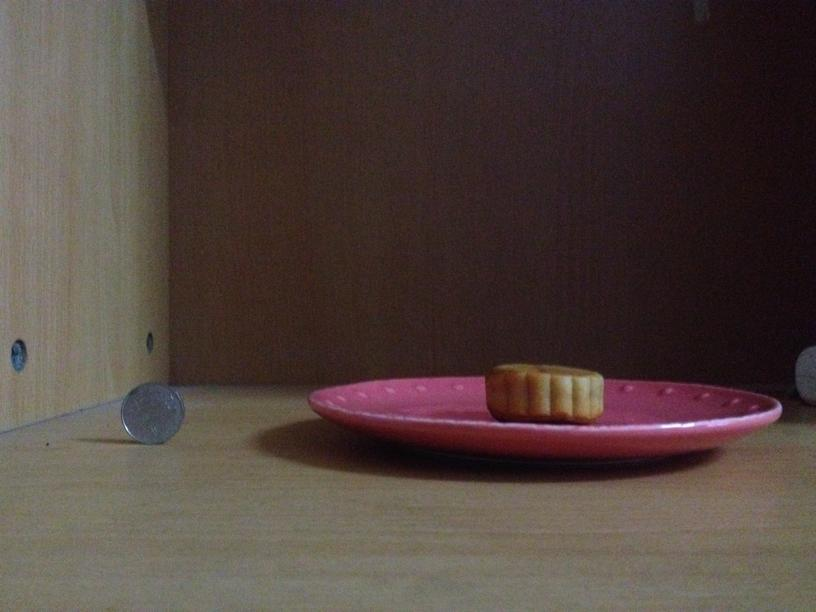coin: (118, 384, 183, 443)
mooncake: (486, 362, 604, 424)
